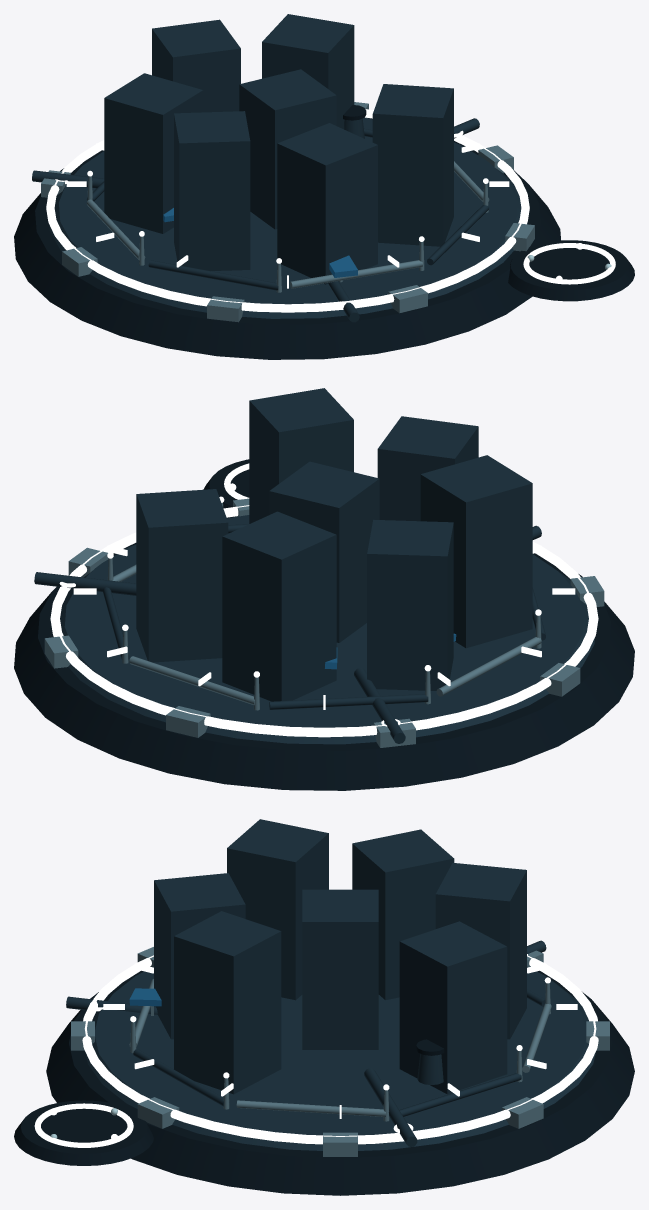
File: metalStorage-stage1.glb
The picture shows the model from 3 angles, top to bottom: view 1: azimuth 30°, elevation 25°; view 2: azimuth 150°, elevation 25°; view 3: azimuth 270°, elevation 25°; orthographic projection. The views are drawn at different scales.
Parts seen in each view (by area): view 1: metal-vault (×7), armored-foundation, upper-deck, perimeter-light, landing-pad, landing-guidance-light, service-catwalk-2, service-catwalk-1, buttress-3, buttress-2, buttress-4, service-catwalk-0 (+4 smaller); view 2: metal-vault (×7), armored-foundation, upper-deck, perimeter-light, service-catwalk-4, utility-conduit-2, service-catwalk-5, landing-pad, buttress-6, service-catwalk-3, utility-conduit-1, buttress-4 (+4 smaller); view 3: metal-vault (×7), upper-deck, armored-foundation, perimeter-light, landing-pad, landing-guidance-light, service-catwalk-7, service-catwalk-6, utility-conduit-2, buttress-7, buttress-1, buttress-0 (+6 smaller).
Part boxes in pixels (bbox=[...]): metal-vault (×7): bbox=[104, 14, 453, 284]; armored-foundation: bbox=[14, 118, 560, 359]; upper-deck: bbox=[49, 118, 527, 318]; perimeter-light: bbox=[46, 109, 529, 312]; landing-pad: bbox=[508, 240, 634, 301]; landing-guidance-light: bbox=[523, 243, 615, 284]; service-catwalk-2: bbox=[148, 260, 278, 290]; service-catwalk-1: bbox=[289, 260, 422, 288]; buttress-3: bbox=[207, 296, 244, 322]; buttress-2: bbox=[388, 285, 427, 313]; buttress-4: bbox=[62, 247, 97, 276]; service-catwalk-0: bbox=[427, 205, 488, 265]; metal-vault (×7): bbox=[136, 388, 532, 701]; armored-foundation: bbox=[14, 516, 634, 790]; upper-deck: bbox=[53, 515, 594, 744]; perimeter-light: bbox=[50, 505, 598, 737]; service-catwalk-4: bbox=[269, 694, 428, 709]; utility-conduit-2: bbox=[34, 572, 136, 595]; service-catwalk-5: bbox=[129, 656, 254, 704]; landing-pad: bbox=[203, 459, 249, 508]; buttress-6: bbox=[166, 706, 210, 737]; service-catwalk-3: bbox=[436, 637, 541, 696]; utility-conduit-1: bbox=[354, 668, 405, 743]; buttress-4: bbox=[540, 663, 580, 696]; metal-vault (×7): bbox=[154, 819, 526, 1094]; upper-deck: bbox=[85, 966, 596, 1150]; armored-foundation: bbox=[46, 970, 634, 1195]; perimeter-light: bbox=[82, 955, 598, 1144]; landing-pad: bbox=[14, 1100, 153, 1165]; landing-guidance-light: bbox=[34, 1103, 133, 1147]; service-catwalk-7: bbox=[236, 1100, 385, 1116]; service-catwalk-6: bbox=[399, 1073, 521, 1116]; utility-conduit-2: bbox=[364, 1068, 417, 1146]; buttress-7: bbox=[502, 1097, 543, 1128]; buttress-1: bbox=[137, 1097, 179, 1128]; buttress-0: bbox=[323, 1132, 357, 1156].
Size of the model in its own units: 8.53 by 2.81 by 8.99.
